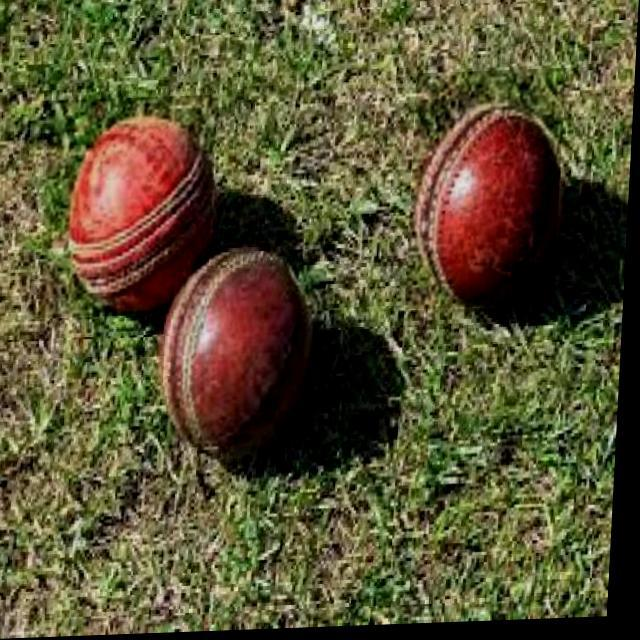-: (42, 96, 219, 318), (408, 72, 566, 312), (172, 270, 330, 444)
